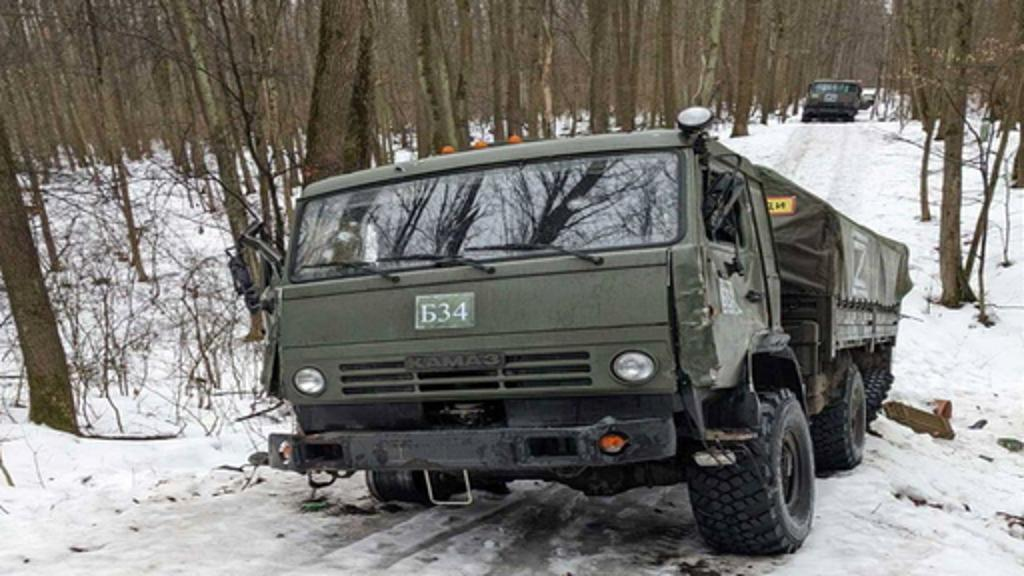TRUCK: (226, 118, 918, 558), (788, 70, 874, 124)
